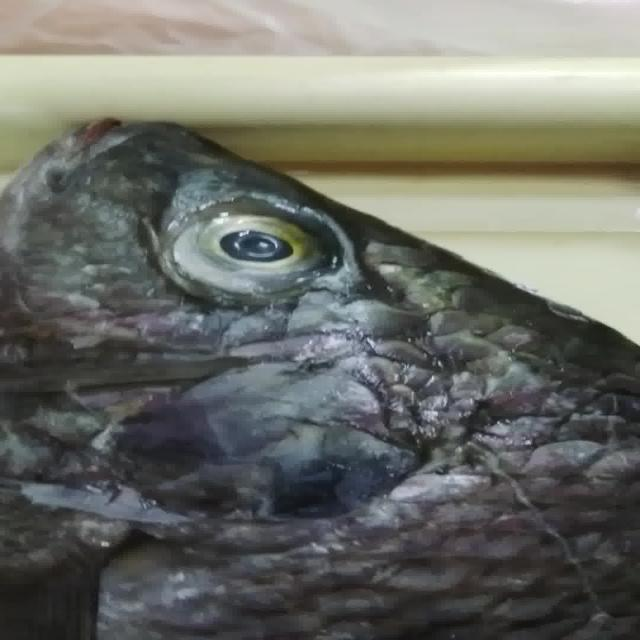Non-Fresh: (156, 180, 344, 300)
